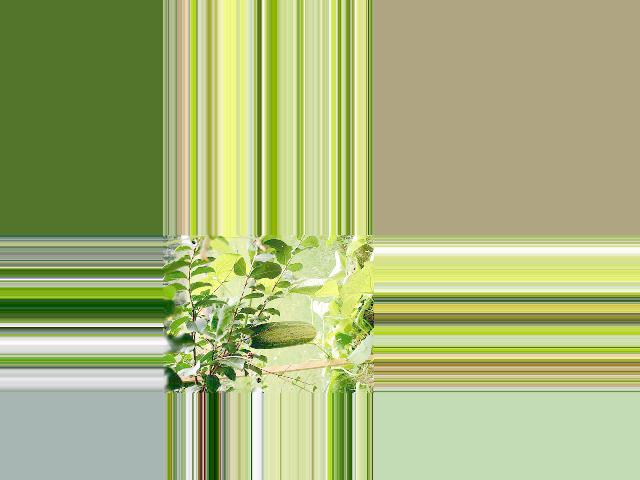cucumber: (241, 321, 316, 350)
